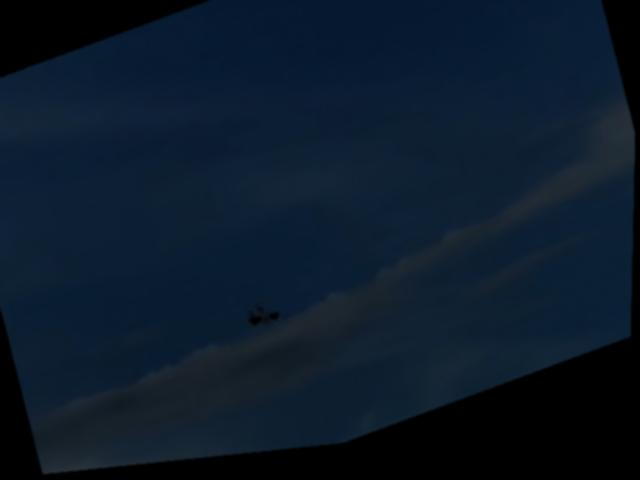uav: (239, 293, 289, 344)
